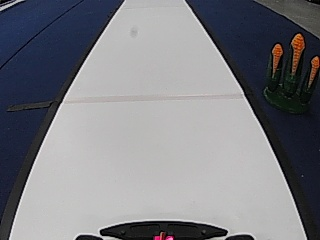corn: (262, 29, 318, 111)
